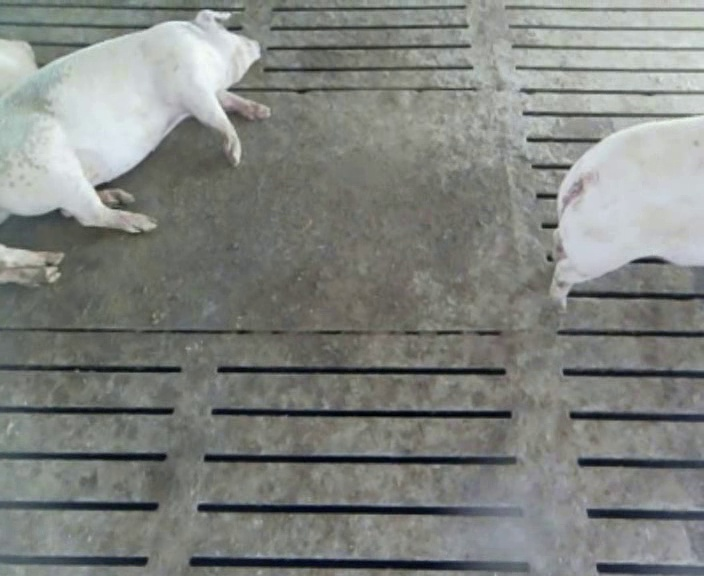pig: (0, 10, 269, 231), (550, 116, 703, 304)
